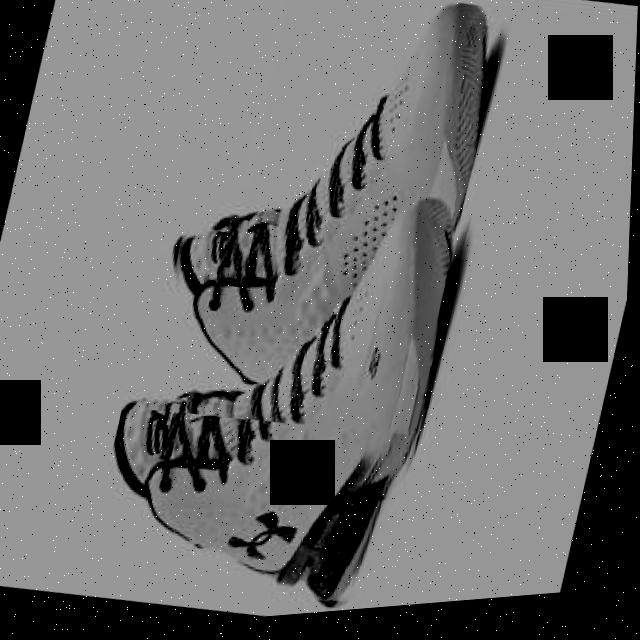shoe: (86, 157, 478, 633), (139, 0, 510, 464)
